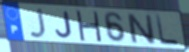6: (103, 11, 127, 45)
H: (75, 10, 104, 43)
J: (28, 7, 48, 39), (54, 10, 74, 40)
L: (154, 14, 181, 47)
N: (125, 12, 158, 46)
